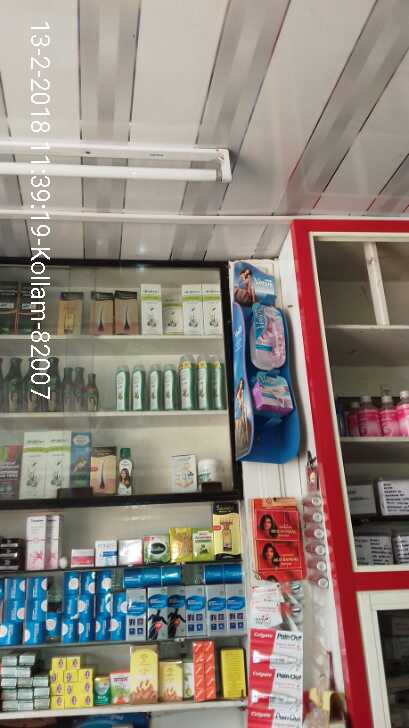venus: (249, 300, 292, 374), (243, 358, 296, 414)
